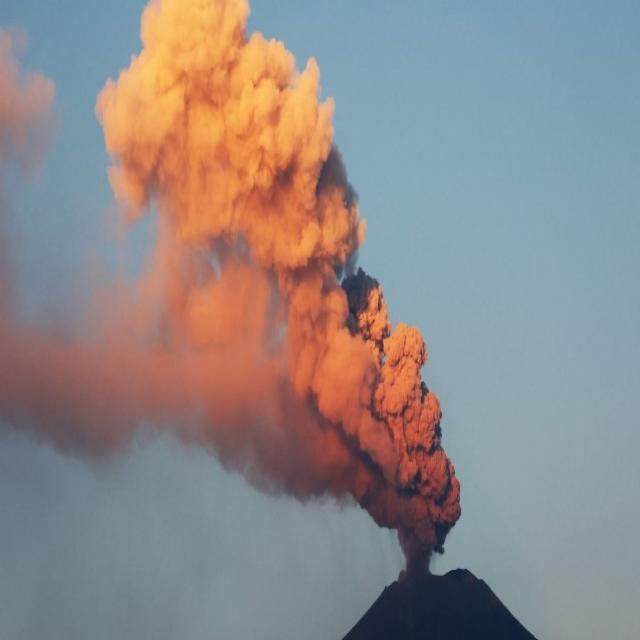Smoke: (95, 2, 462, 584)
